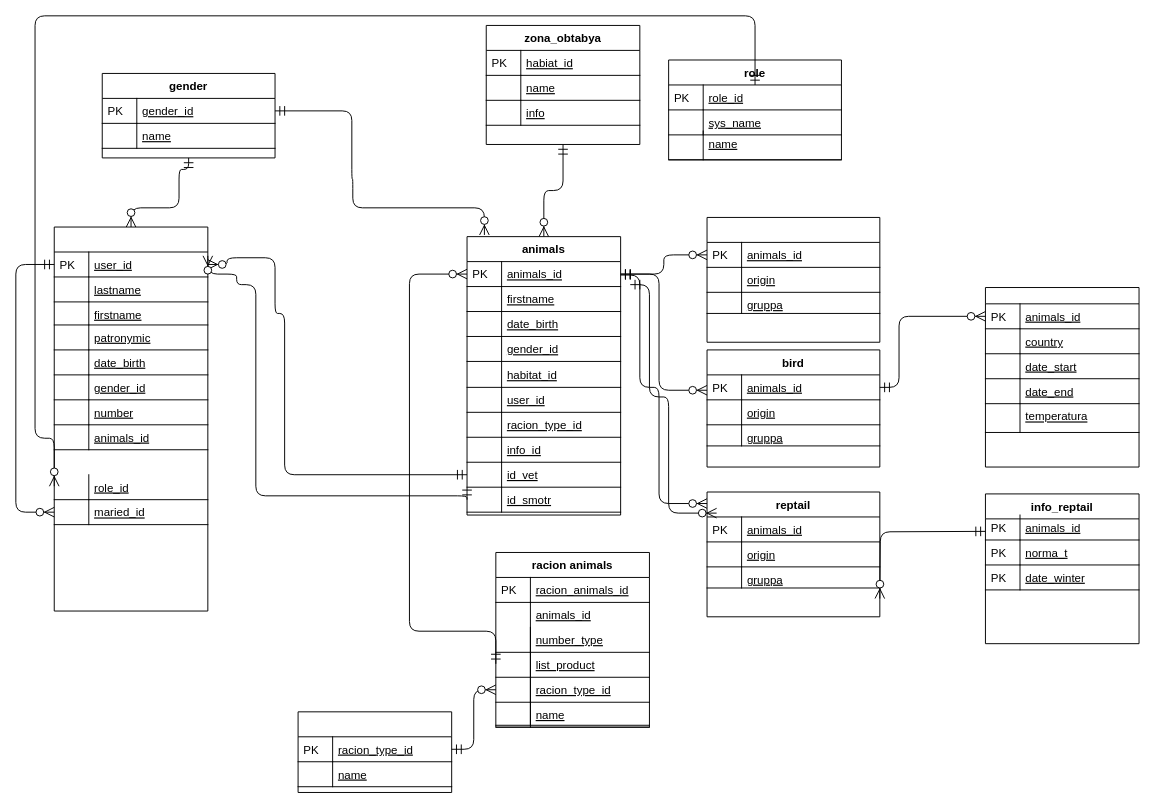
Image size: 1155x808. Some labels were removed from this diagram. Each missing label, with the box of its shape:
mammals: (706, 216, 880, 342)
personal: (53, 226, 208, 611)
type_racion: (297, 711, 452, 792)
winter: (984, 287, 1139, 467)
